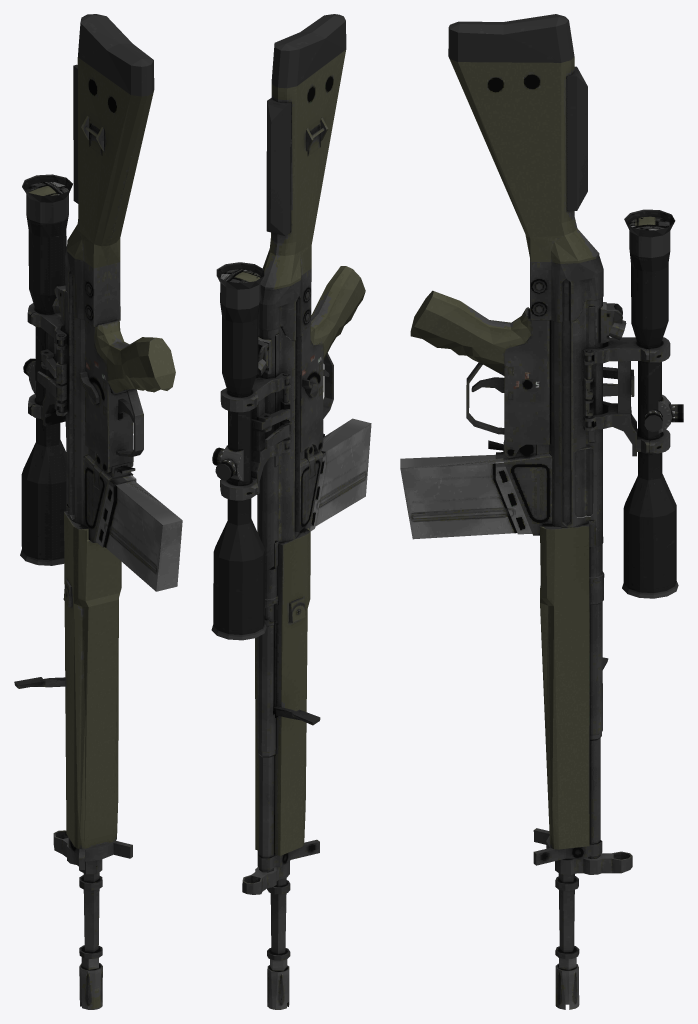
Rendered from w_snip_g3sg1.obj.
3 views of the same model, side by side, from view 1: azimuth 30°, elevation 25°; view 2: azimuth 150°, elevation 25°; view 3: azimuth 270°, elevation 25° (orthographic). The views are drawn at different scales.
Size of the model in its own units: 0.0376 by 0.4224 by 0.11.
1 material, 1 textured.
